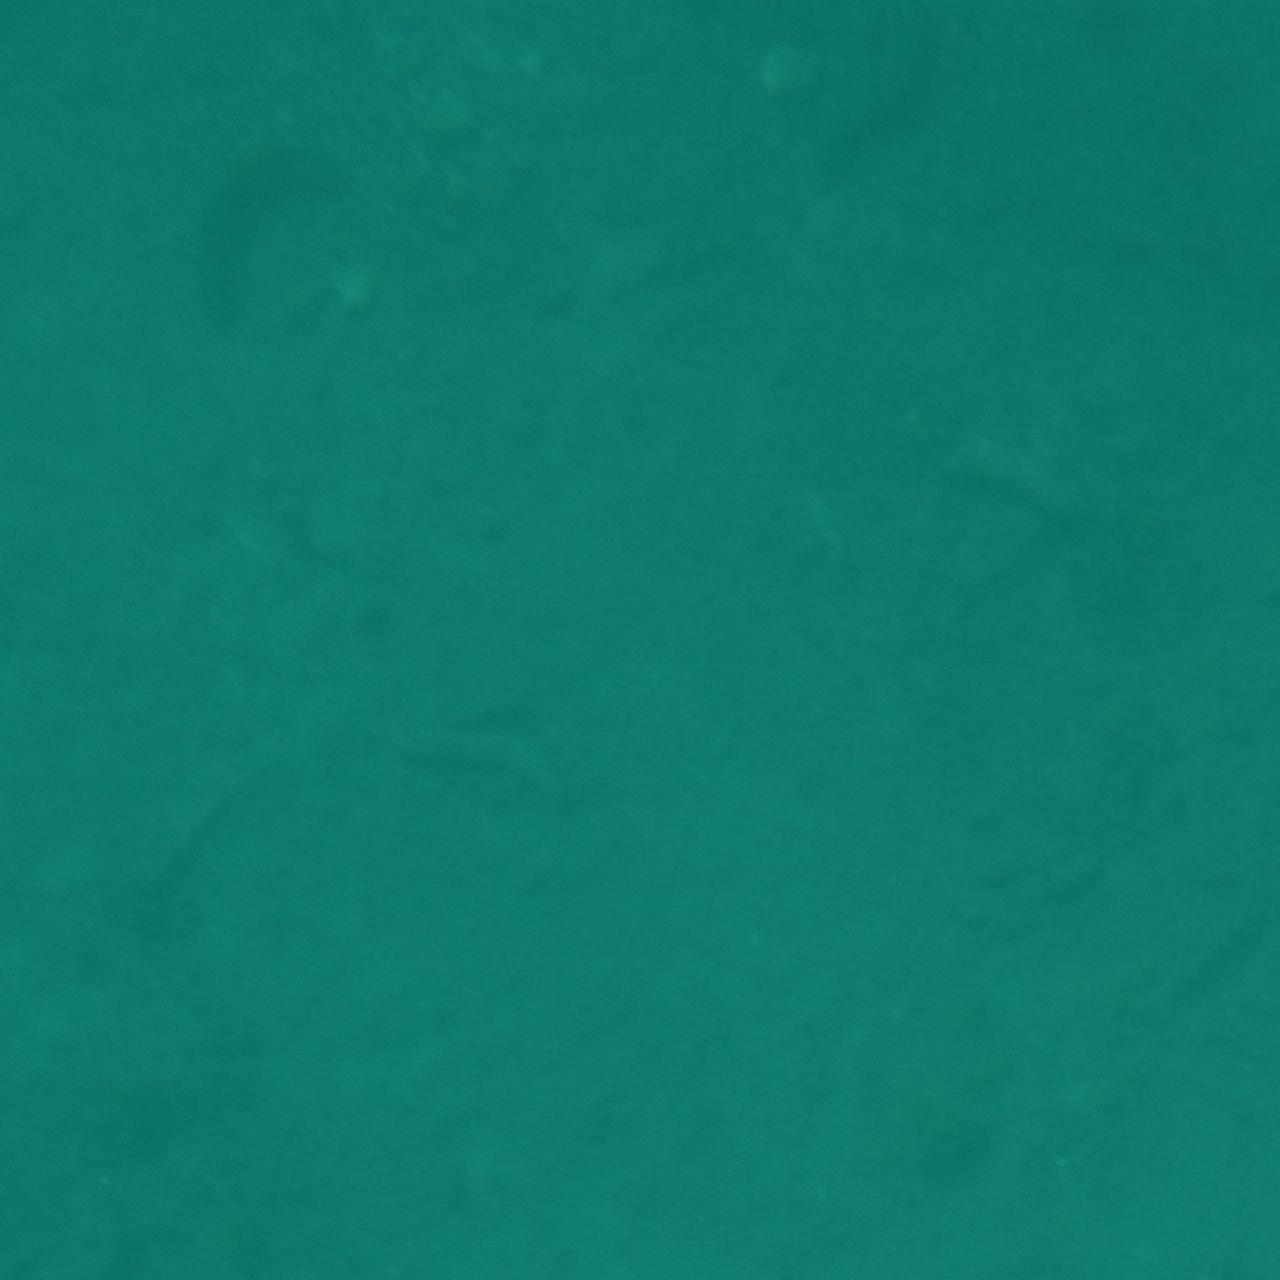Holothuria tubulosa: (898, 370, 1129, 572), (181, 111, 354, 379), (380, 715, 578, 837)
